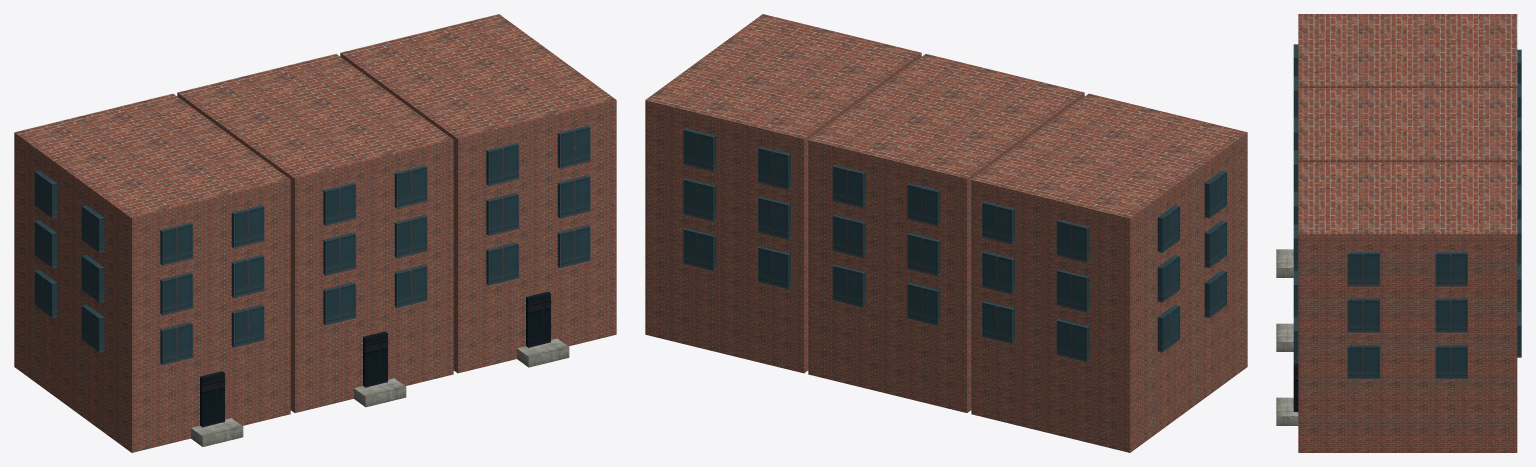
The model's file is townhouse-row_lod0.gltf.
3 renders of one model, left to right at view 1: azimuth 30°, elevation 25°; view 2: azimuth 150°, elevation 25°; view 3: azimuth 270°, elevation 25°, orthographic. The views are drawn at different scales.
Visible parts, largest first — view 1: townhouse-row_unit0, townhouse-row_unit1, townhouse-row_unit2, townhouse-row_fen_07-glass-curtain-blue_1, townhouse-row_fen_07-glass-curtain-blue_0_t, townhouse-row__stoop_b, townhouse-row__stoop_c, townhouse-row__stoop_a; view 2: townhouse-row_unit0, townhouse-row_unit1, townhouse-row_unit2, townhouse-row_fen_07-glass-curtain-blue_1; view 3: townhouse-row_unit2, townhouse-row_unit1, townhouse-row_unit0, townhouse-row_fen_07-glass-curtain-blue_1, townhouse-row__stoop_c, townhouse-row__stoop_a, townhouse-row__stoop_b, townhouse-row_fen_07-glass-curtain-blue_0_t.
Part boxes in pixels (left/top/right/bottom): townhouse-row_unit0: left=14, top=93, right=290, bottom=452; townhouse-row_unit1: left=177, top=54, right=453, bottom=412; townhouse-row_unit2: left=340, top=14, right=616, bottom=373; townhouse-row_fen_07-glass-curtain-blue_1: left=34, top=125, right=590, bottom=364; townhouse-row_fen_07-glass-curtain-blue_0_t: left=200, top=291, right=550, bottom=427; townhouse-row__stoop_b: left=354, top=378, right=406, bottom=407; townhouse-row__stoop_c: left=517, top=338, right=569, bottom=367; townhouse-row__stoop_a: left=191, top=418, right=243, bottom=446; townhouse-row_unit0: left=971, top=93, right=1247, bottom=452; townhouse-row_unit1: left=808, top=54, right=1084, bottom=412; townhouse-row_unit2: left=645, top=14, right=921, bottom=373; townhouse-row_fen_07-glass-curtain-blue_1: left=683, top=128, right=1227, bottom=362; townhouse-row_unit2: left=1298, top=162, right=1517, bottom=452; townhouse-row_unit1: left=1298, top=88, right=1517, bottom=162; townhouse-row_unit0: left=1298, top=14, right=1517, bottom=87; townhouse-row_fen_07-glass-curtain-blue_1: left=1293, top=44, right=1521, bottom=378; townhouse-row__stoop_c: left=1276, top=397, right=1298, bottom=425; townhouse-row__stoop_a: left=1276, top=249, right=1293, bottom=277; townhouse-row__stoop_b: left=1276, top=323, right=1293, bottom=351; townhouse-row_fen_07-glass-curtain-blue_0_t: left=1293, top=363, right=1298, bottom=411.
Bounding box in the file's own units: 24.4 × 11 × 11.2.
